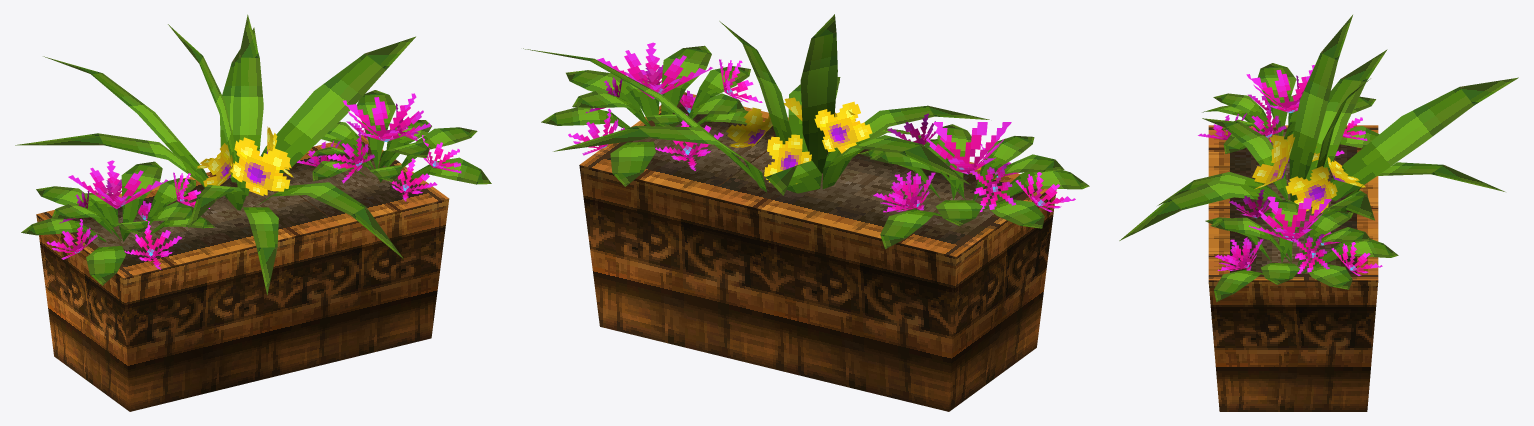
File: FLOWERBOXSMALL.fbx
The picture shows the model from 3 angles, left to right: view 1: azimuth 30°, elevation 25°; view 2: azimuth 150°, elevation 25°; view 3: azimuth 270°, elevation 25°; orthographic projection. The views are drawn at different scales.
Visible parts, largest first — view 1: FLOWERBOXSMALL; view 2: FLOWERBOXSMALL; view 3: FLOWERBOXSMALL.
Part boxes in pixels (box(x1,y1,x2,y2)): FLOWERBOXSMALL: box(15, 14, 491, 411); FLOWERBOXSMALL: box(523, 14, 1089, 411); FLOWERBOXSMALL: box(1119, 15, 1518, 411).
Size of the model in its own units: 11555 by 7951 by 9483.
4 materials, 4 textured.
